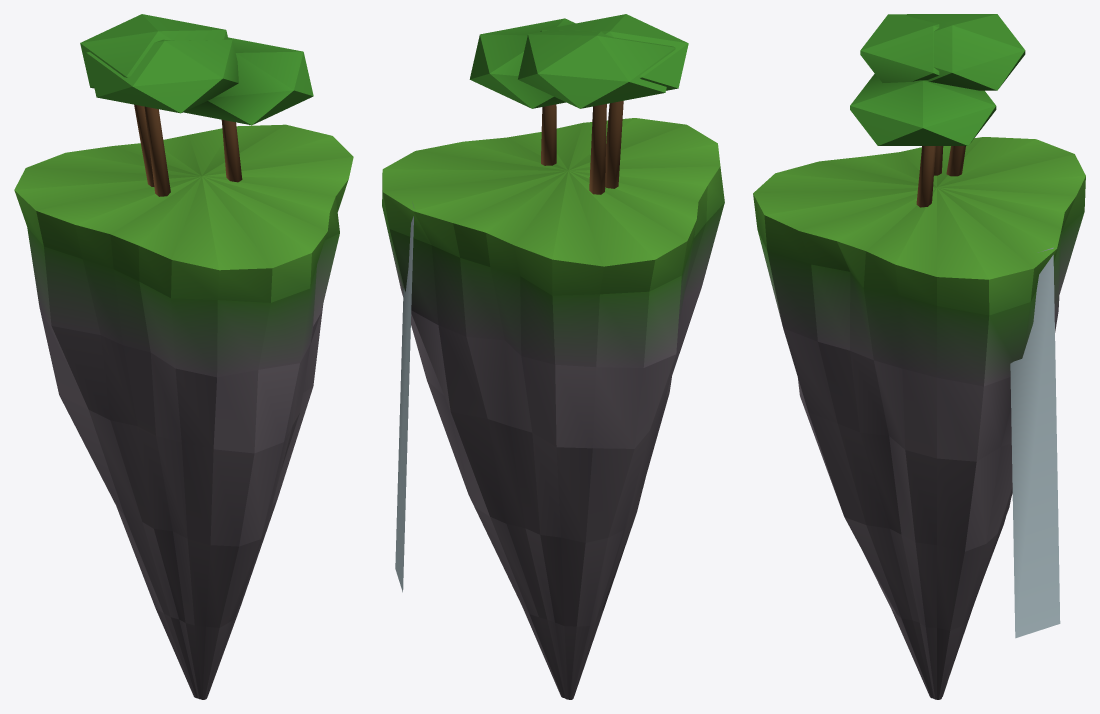
The model's file is insulita_c.glb.
The picture shows the model from 3 angles, left to right: view 1: azimuth 30°, elevation 25°; view 2: azimuth 150°, elevation 25°; view 3: azimuth 270°, elevation 25°; orthographic projection. The views are drawn at different scales.
Visible parts, largest first — view 1: Corp; view 2: Corp; view 3: Corp.
Part boxes in pixels (left/top/right/bottom): Corp: left=14, top=14, right=353, bottom=699; Corp: left=382, top=14, right=724, bottom=699; Corp: left=753, top=14, right=1085, bottom=699.
Bounding box in the file's own units: 4.51 × 9.63 × 4.44.
